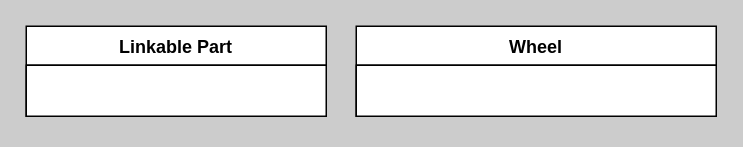
Image size: 743x147. Some labels were removed from this diagram. Here are the shapes that lost their labels. From the top down, the centre of each, then its label:
At (175,90): "+ execute(p_pression: float) : void".
At (535,90): "+ execute_rotation(p_pression: float) : void".
